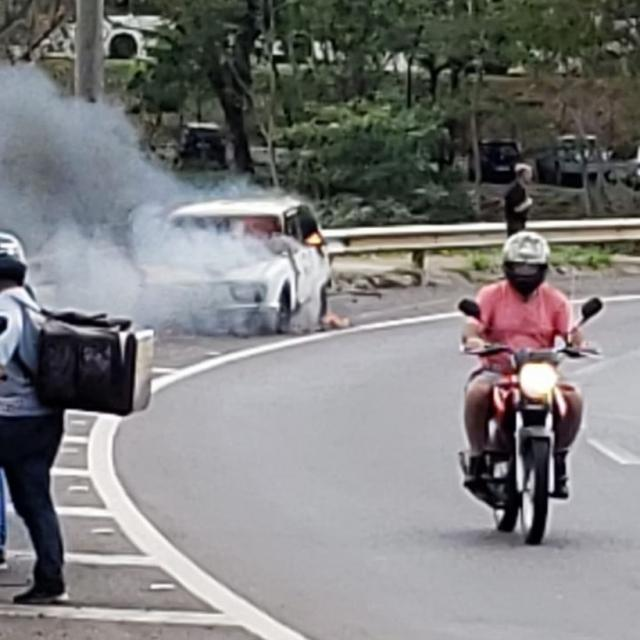Fire: (320, 312, 350, 326)
